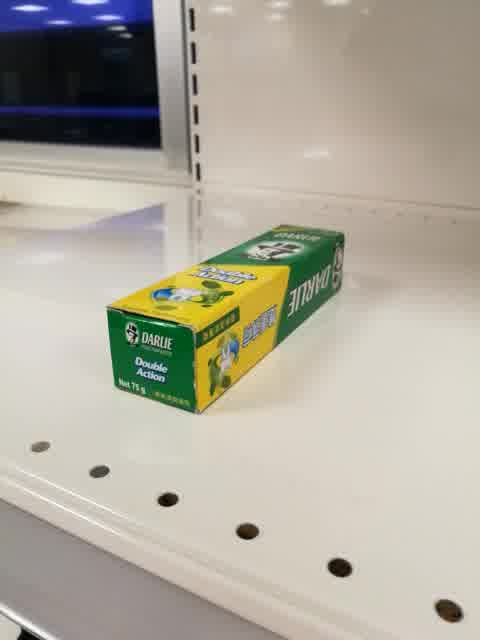toothpaste: (104, 223, 347, 415)
